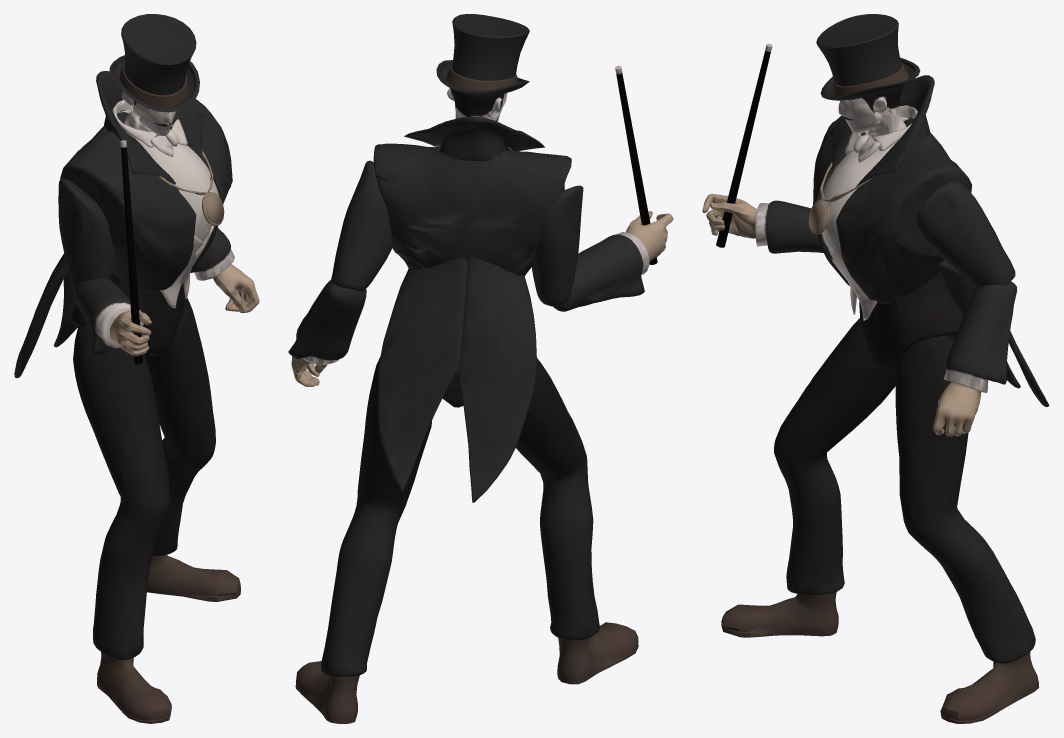
3 renders of one model, left to right at view 1: azimuth 30°, elevation 25°; view 2: azimuth 150°, elevation 25°; view 3: azimuth 270°, elevation 25°, orthographic. The views are drawn at different scales.
Visible parts, largest first — view 1: models\heroes_staging\magician_v2\magician.vmdl_c.magician_b, models\heroes_staging\magician_v2\magician.vmdl_c.magician_w; view 2: models\heroes_staging\magician_v2\magician.vmdl_c.magician_b, models\heroes_staging\magician_v2\magician.vmdl_c.magician_w; view 3: models\heroes_staging\magician_v2\magician.vmdl_c.magician_b, models\heroes_staging\magician_v2\magician.vmdl_c.magician_w.
Boxes of the visible parts, x1,y1,x2,y2 form: models\heroes_staging\magician_v2\magician.vmdl_c.magician_b: (14,14,259,723); models\heroes_staging\magician_v2\magician.vmdl_c.magician_w: (120,140,142,364); models\heroes_staging\magician_v2\magician.vmdl_c.magician_b: (288,14,673,723); models\heroes_staging\magician_v2\magician.vmdl_c.magician_w: (615,65,657,264); models\heroes_staging\magician_v2\magician.vmdl_c.magician_b: (702,14,1049,723); models\heroes_staging\magician_v2\magician.vmdl_c.magician_w: (716,43,772,247).
Size of the model in its own units: 1.01 by 2.46 by 1.21.
Materials: 3 (3 with a texture image).
